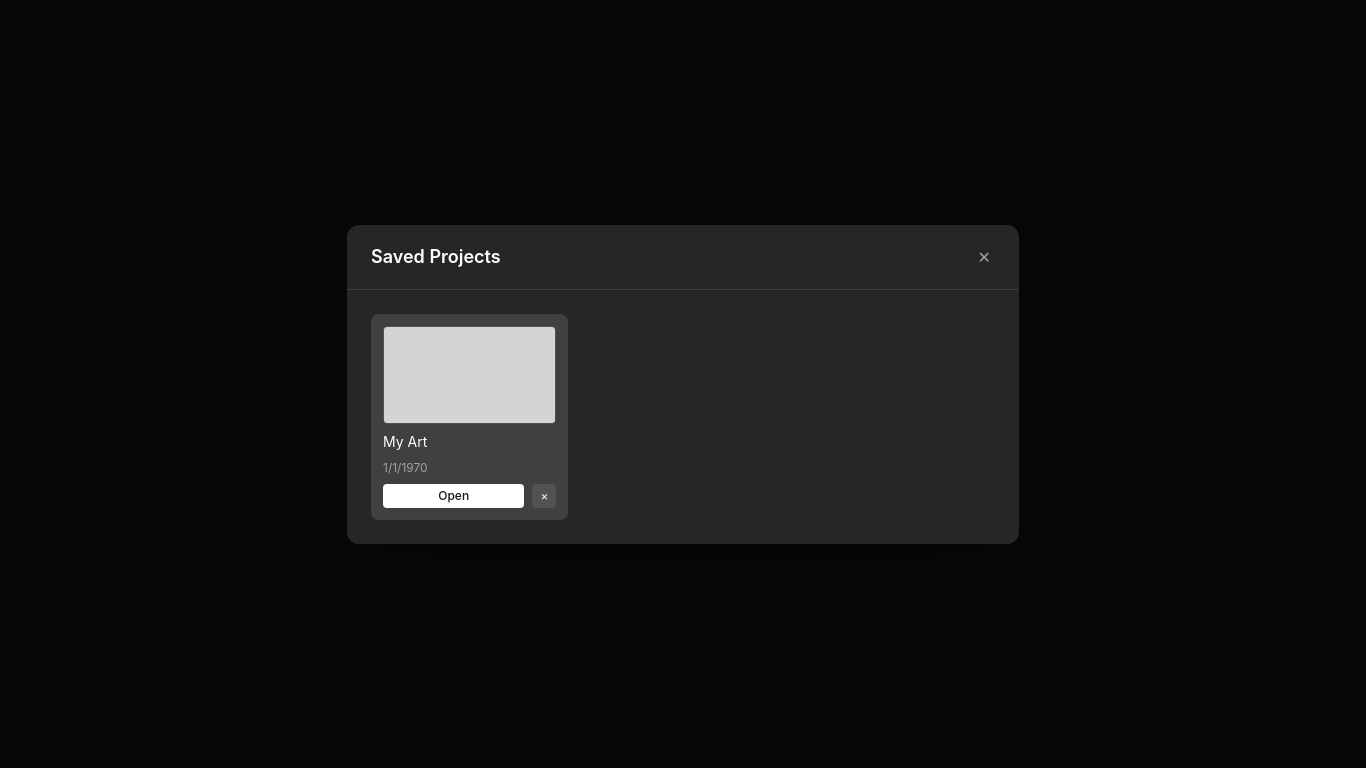
Test: ProjectBrowser › cancels deletion when No is clicked
Click the button named "Delete My Art" at (544, 496), box [532, 484, 556, 508]
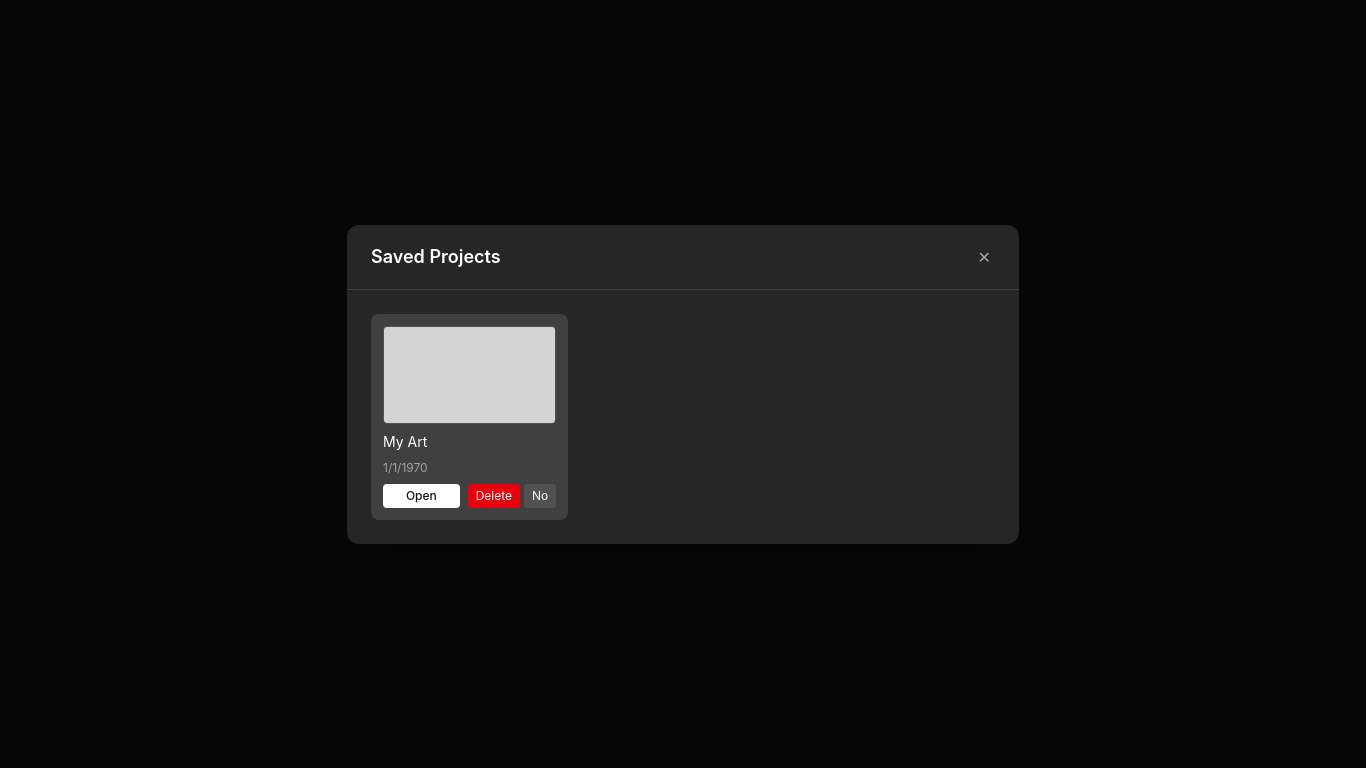
Click the button "No" at (540, 496), box [524, 484, 556, 508]
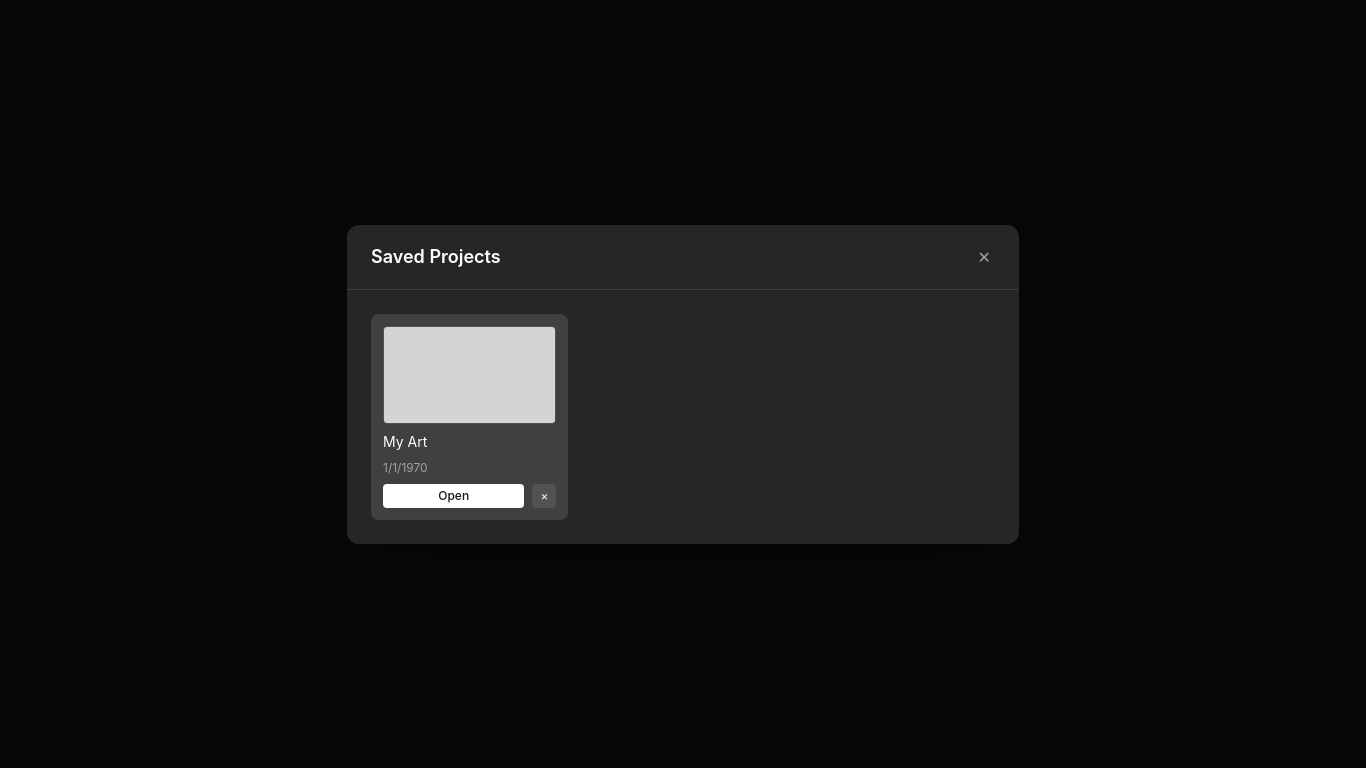
Expected: the button "Delete" is gone
